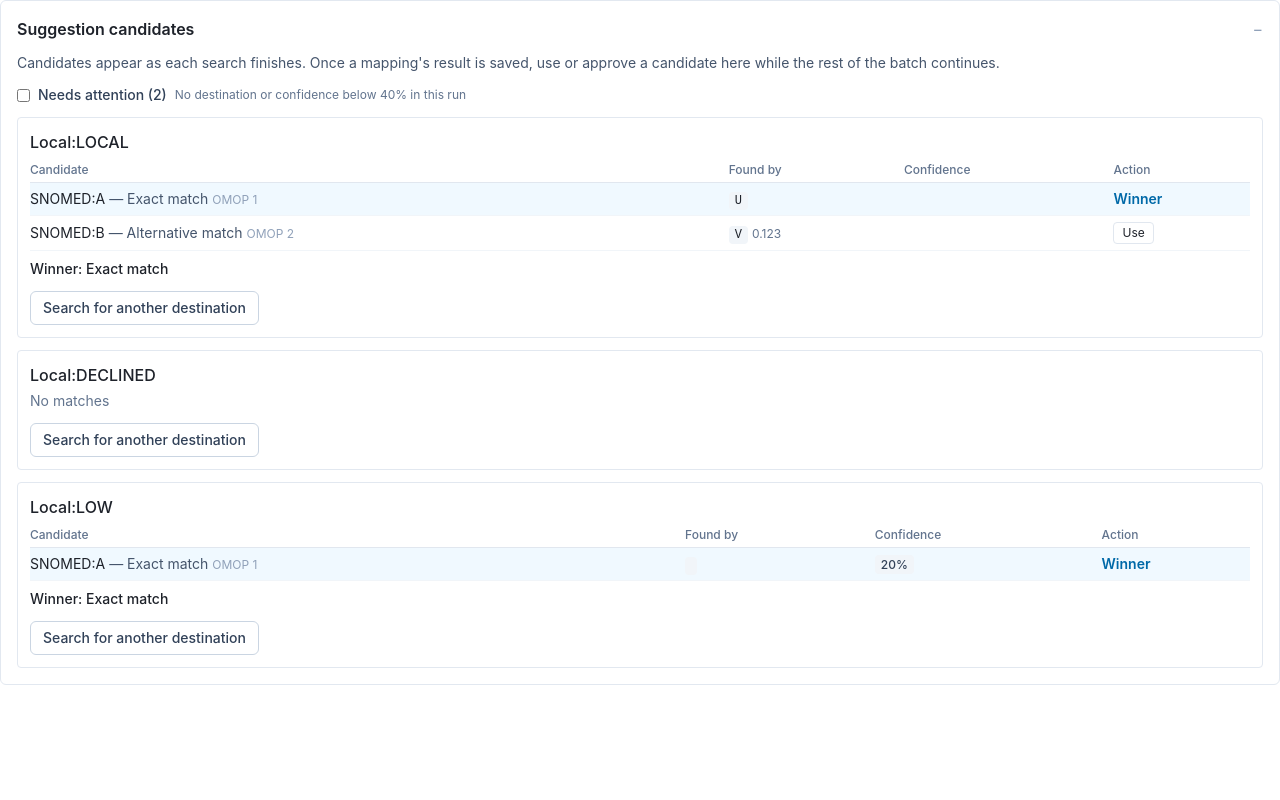
Test: batch manual destination search › offers manual search for declined rows and filters the run by low confidence
Click the checkbox labelled "Needs attention" at (24, 95), box [17,88,30,102]
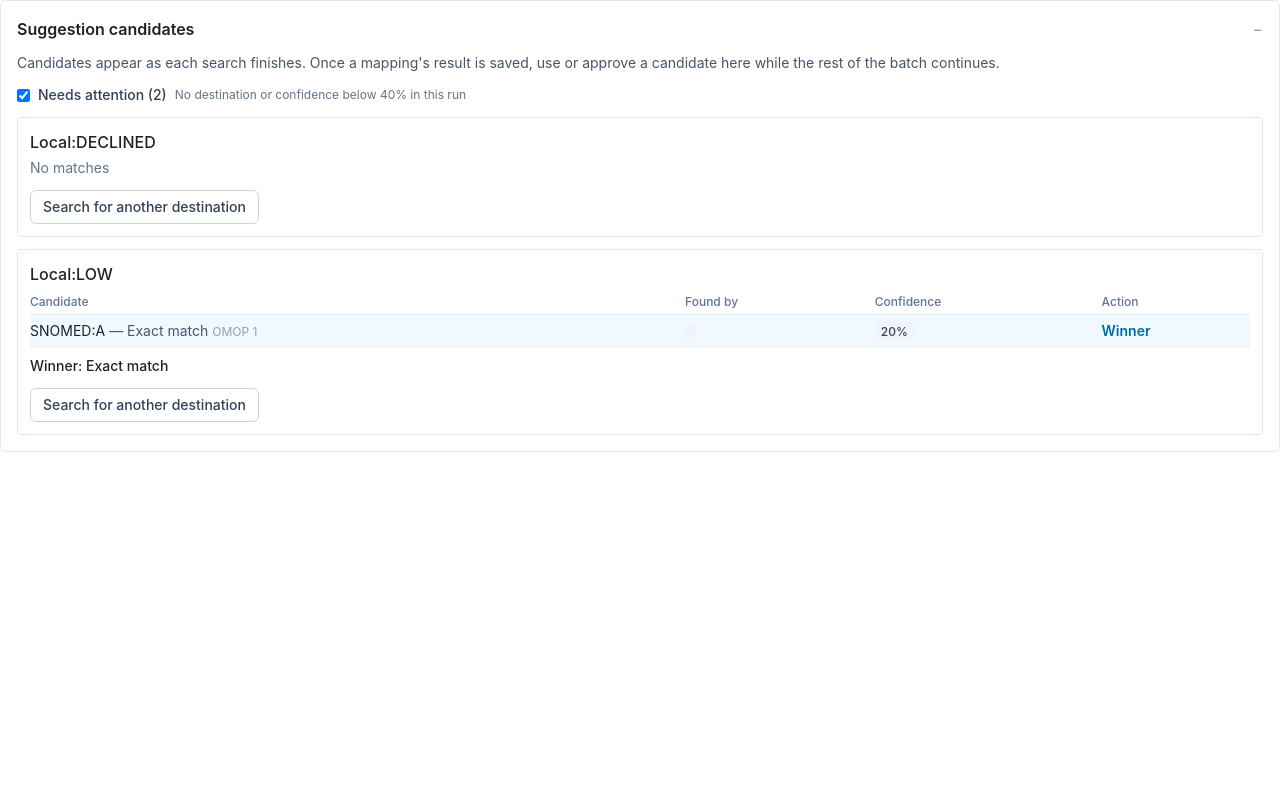
Check: the button with aria-label "Search destination for LOW" is shown, box [30,388,259,422]
Click the button with aria-label "Search destination for DECLINED" at (144, 207), box [30,190,259,224]
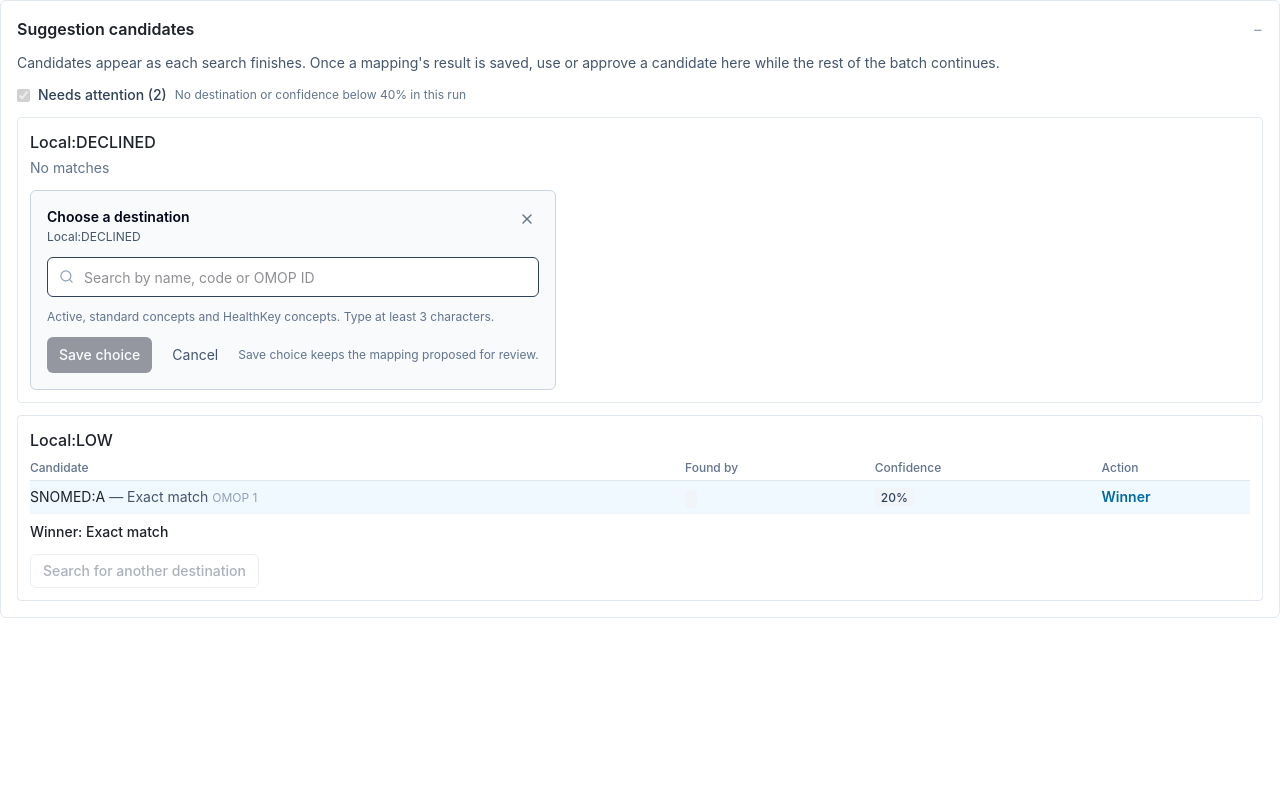
Check: the dropdown named "Search destination concepts inline" is shown, box [47,257,539,297]
